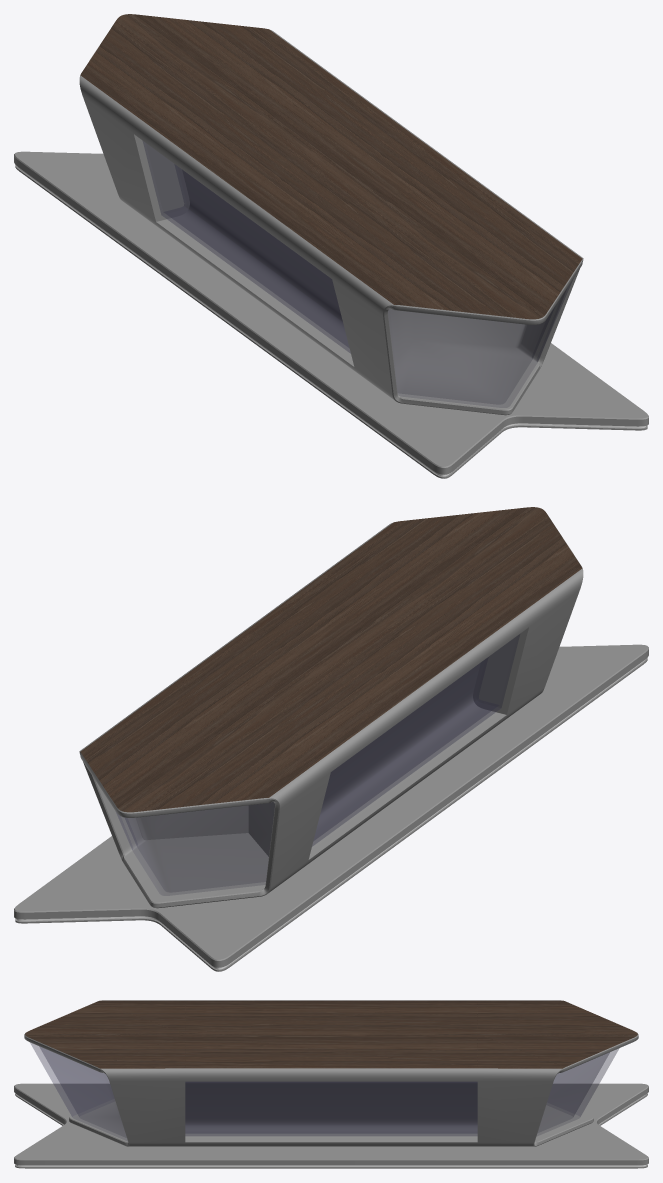
File: SciFi_CR_Conference Table.FBX
3 views of the same model, one above another, from view 1: azimuth 30°, elevation 25°; view 2: azimuth 150°, elevation 25°; view 3: azimuth 270°, elevation 25° (orthographic). The views are drawn at different scales.
Visible parts, largest first — view 1: SciFi_CR_Conference Table; view 2: SciFi_CR_Conference Table; view 3: SciFi_CR_Conference Table.
Boxes of the visible parts, x1,y1,x2,y2 form: SciFi_CR_Conference Table: [14, 14, 648, 478]; SciFi_CR_Conference Table: [14, 507, 648, 971]; SciFi_CR_Conference Table: [14, 1000, 648, 1168].
Bounding box in the file's own units: 1566 × 921 × 5498.
Materials: 4 (1 with a texture image).
